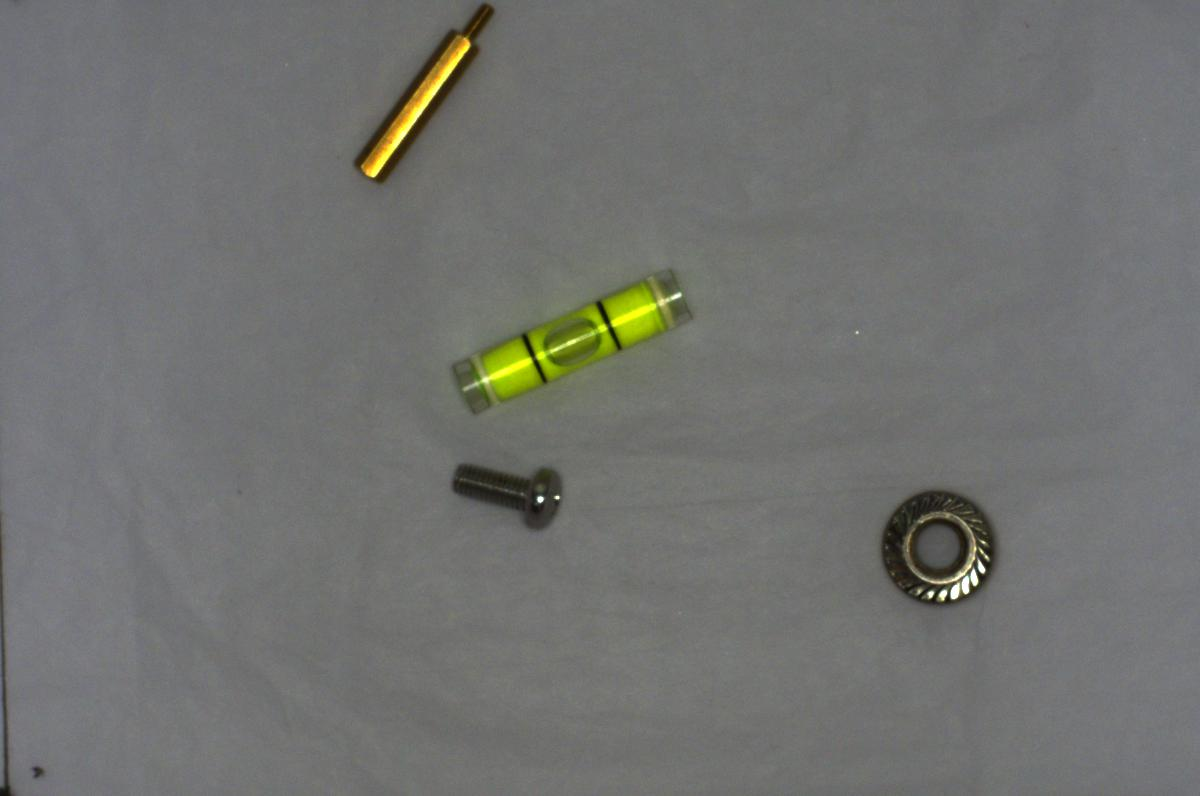Flange nut: (862, 473, 1017, 627)
Hexagon pillar: (341, 7, 512, 180)
Horizontal bubble: (442, 256, 698, 427)
Round head screw: (434, 446, 575, 532)
